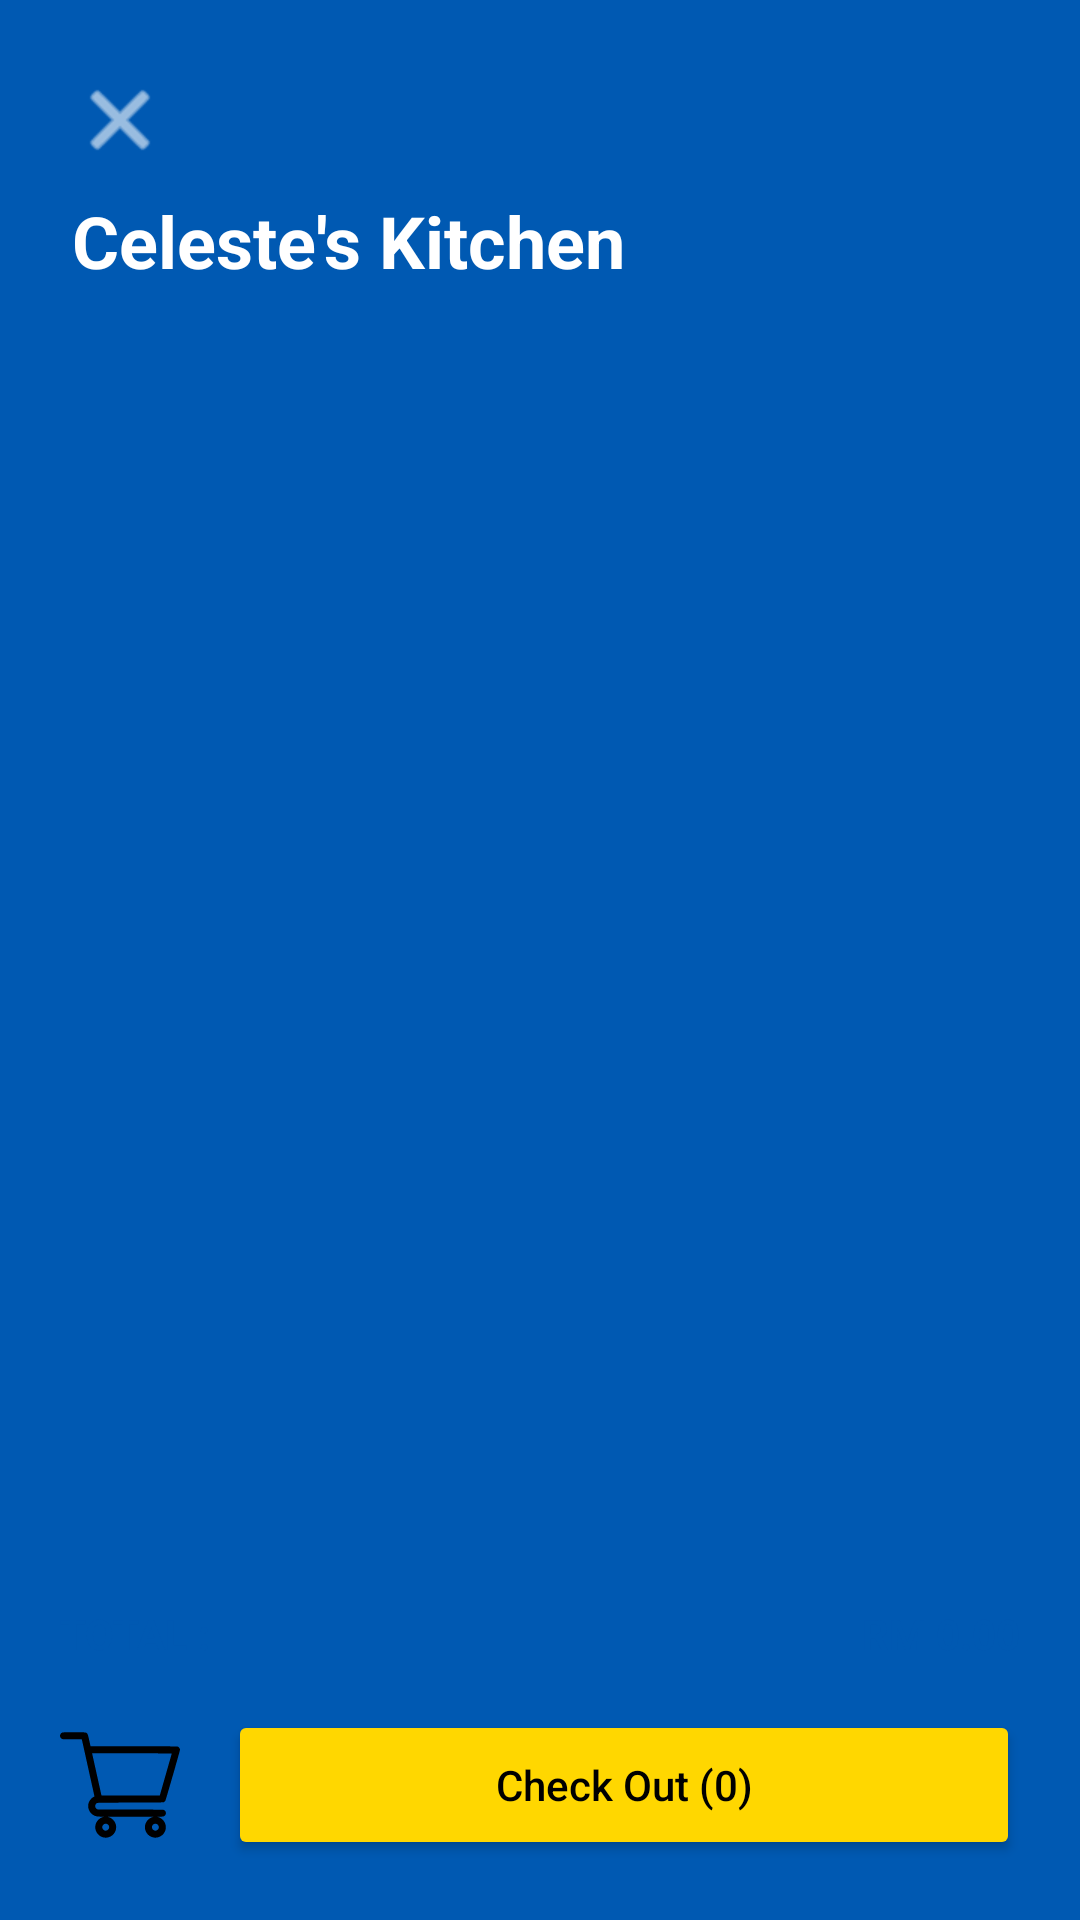

Where to tap for icons on this 1080px×1920px app screen, as [x,y]:
cart: [120,1785]
close clear cancel: [120,120]
